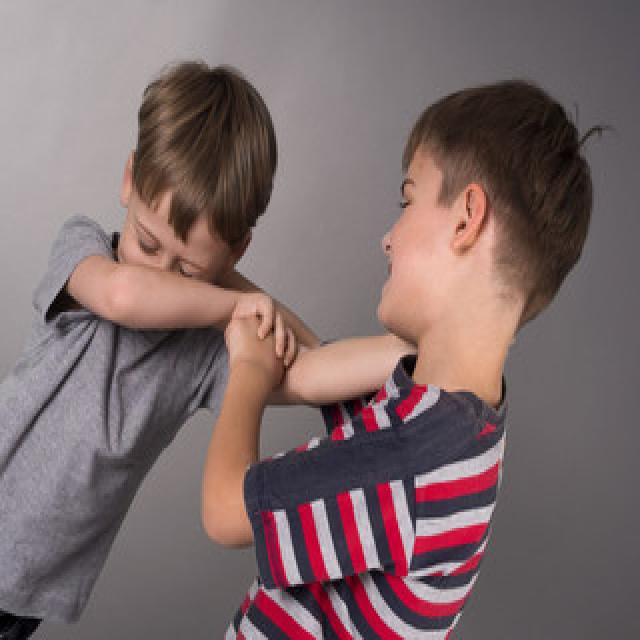fight: (64, 62, 595, 490)
